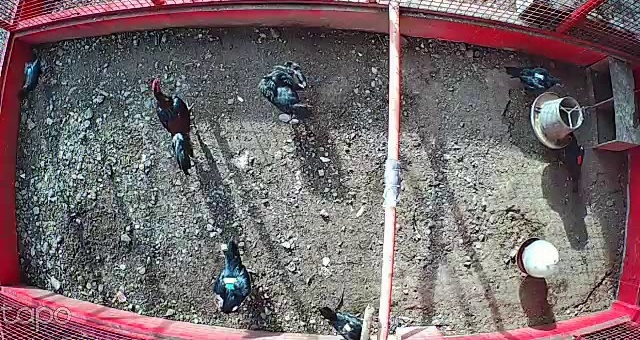Chicken: (254, 55, 322, 120), (213, 234, 259, 321), (500, 57, 566, 100), (553, 130, 589, 196), (18, 45, 52, 103), (317, 300, 365, 340)
Rooster: (148, 74, 205, 176)
Saddle_Color_Blue: (27, 67, 32, 75)
Saddle_Color_Red: (577, 155, 583, 164)
Saddle_Color_Yellow: (343, 321, 356, 332)
Saddle_Color_YellowGreen: (222, 276, 241, 290)
